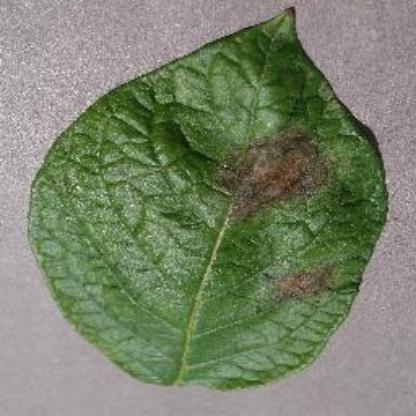Late-Blight: (35, 3, 387, 398)
